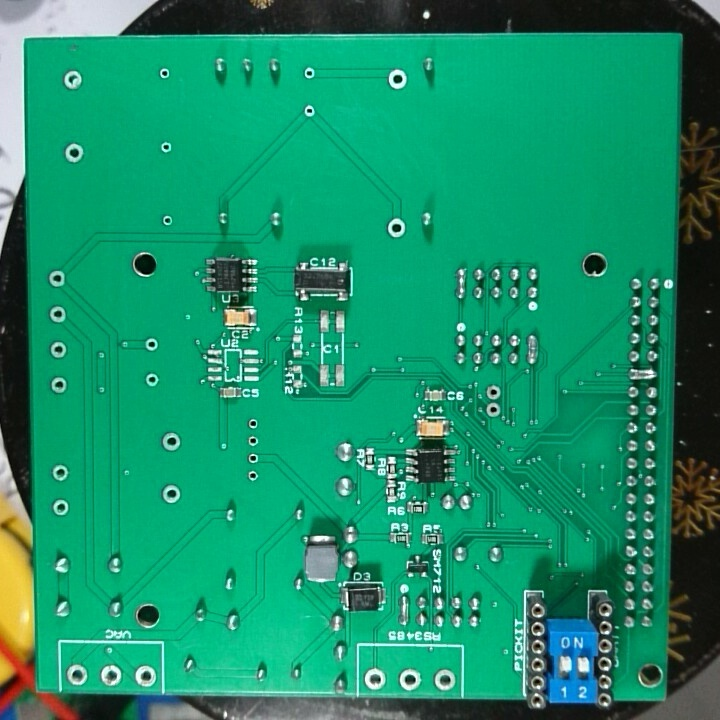F: (395, 663, 424, 694), (64, 660, 93, 689), (431, 666, 459, 695), (130, 663, 160, 690), (58, 67, 87, 93), (385, 212, 409, 243), (361, 666, 389, 692), (60, 141, 87, 167), (384, 66, 411, 92), (98, 662, 124, 689), (44, 303, 70, 329), (159, 480, 184, 506), (159, 429, 183, 455), (50, 496, 74, 521), (45, 268, 69, 292), (47, 374, 71, 398), (49, 460, 72, 485), (47, 338, 68, 362), (143, 368, 163, 391), (156, 138, 176, 158), (142, 335, 161, 356), (484, 382, 504, 401), (156, 63, 173, 84), (244, 415, 263, 432), (302, 100, 318, 120), (483, 403, 502, 419), (245, 449, 262, 466), (160, 212, 176, 229), (301, 65, 317, 82), (244, 434, 262, 449), (246, 467, 260, 485)
P: (453, 266, 469, 302), (525, 330, 540, 367), (398, 593, 412, 629), (627, 366, 659, 381)
